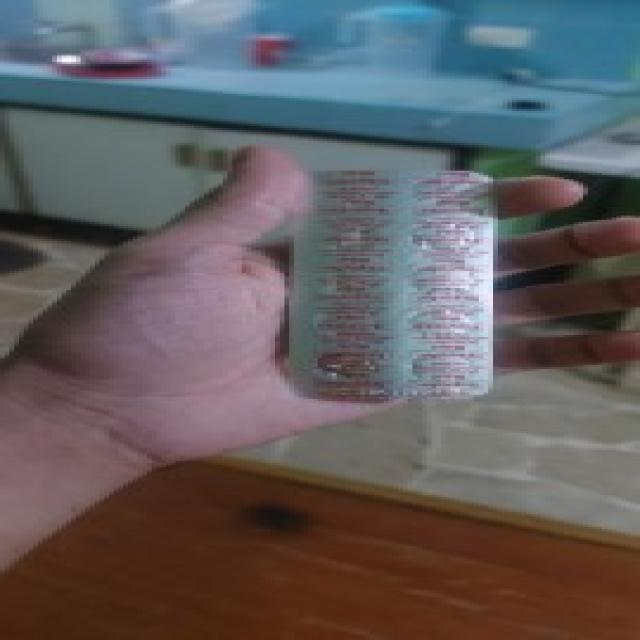Cacat: (284, 168, 500, 404)
